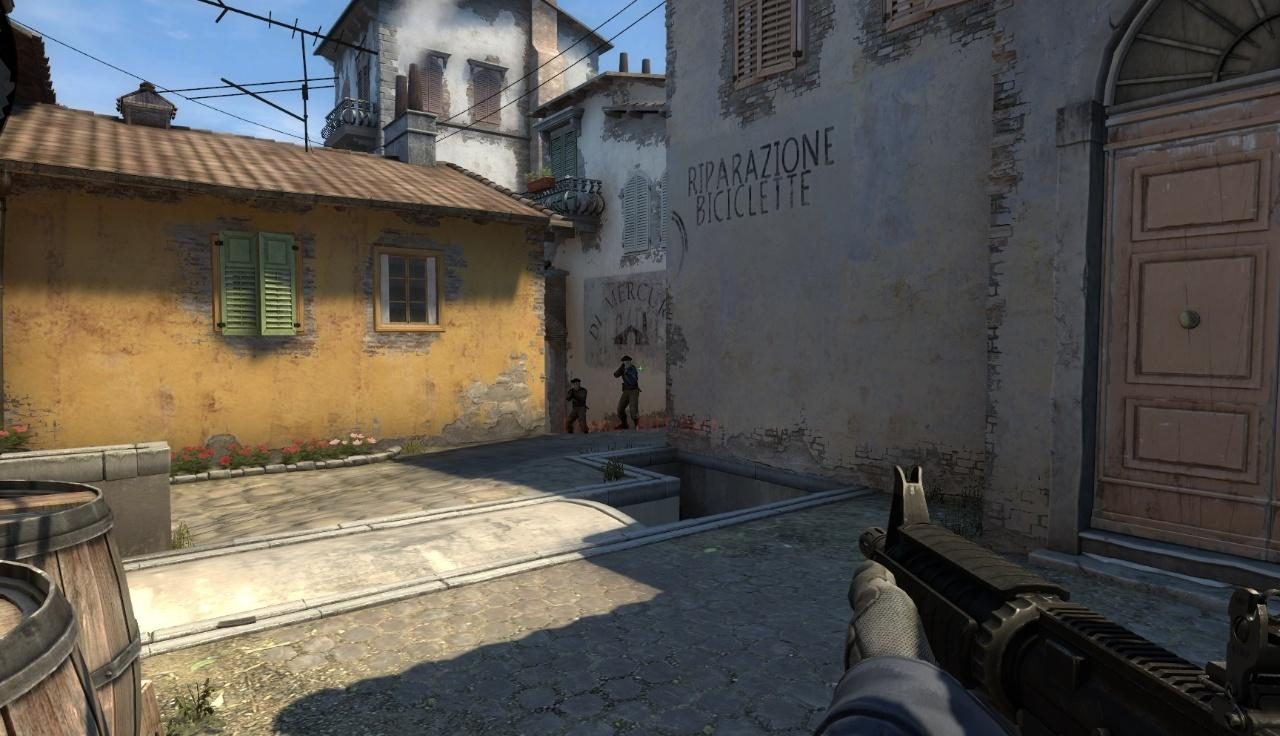rifle: (856, 462, 1280, 736)
tt: (617, 356, 638, 428), (567, 377, 587, 433)
tthead: (621, 356, 631, 369), (572, 379, 581, 390)
